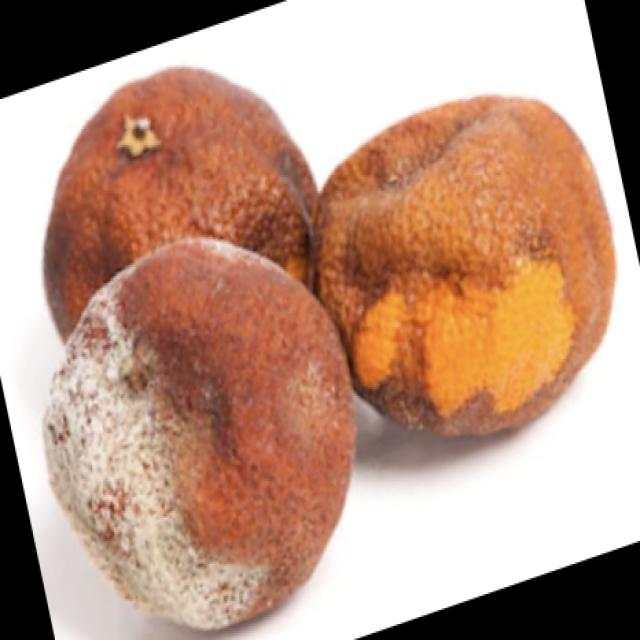sangat_busuk: (46, 239, 352, 630), (315, 88, 619, 430), (45, 71, 322, 338)
